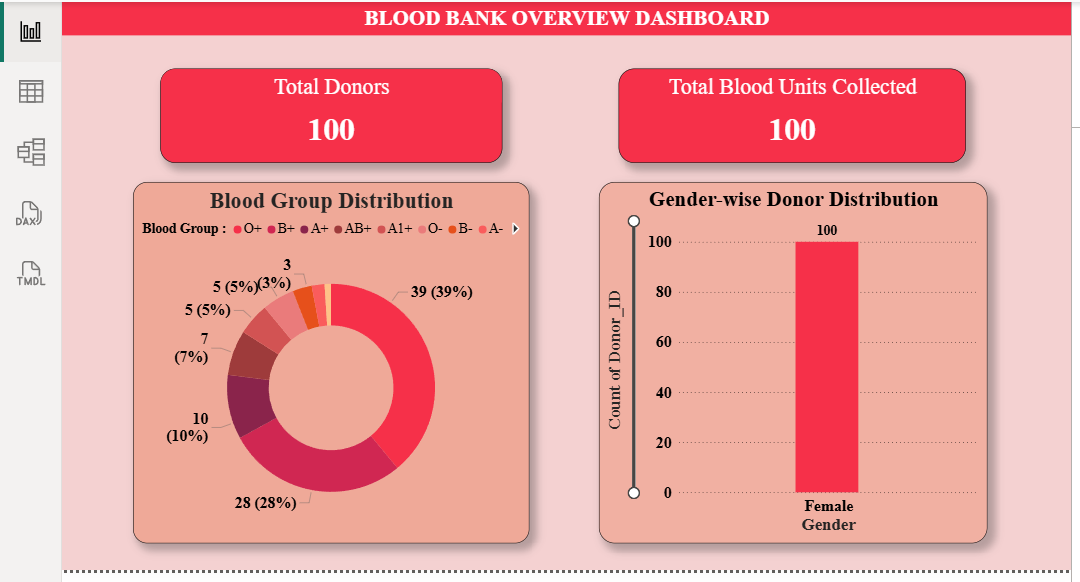

What the dashboard file says about the page in this screenshot:
{"tool":"powerbi","page":{"name":"Page 1","canvas":[1280,720],"ordinal":0},"visuals":[{"type":"card","title":"Total Donors","fields":{"Values":["Count(Sheet1.Donor_ID)"]},"box":[124.9,85.1,433.6,119.4],"z":0},{"type":"card","title":"Total Blood Units Collected","fields":{"Values":["CountNonNull(Sheet1.Units Donated)"]},"box":[705.3,85.1,440.5,119.4],"z":1000},{"type":"donutChart","title":"Blood Group Distribution","fields":{"Category":["Sheet1.Blood Group :"],"Y":["CountNonNull(Sheet1.Donor_ID)"]},"box":[90.6,227.8,502.2,458.3],"z":2000},{"type":"clusteredColumnChart","title":" Gender-wise Donor Distribution","fields":{"Category":["Sheet1.Gender"],"Y":["CountNonNull(Sheet1.Donor_ID)"]},"box":[680.6,227.8,492.6,458.3],"z":3000},{"type":"textbox","box":[0,0,1280.3,42.5],"z":4000}]}

Visuals, with their boxes on the page's 1280x720 design canvas (x1, y1, x2, y2). These are canvas units, not pixel positions in the 1080x582 screenshot, which may show the page scaled, cropped or inside an application window:
"Total Donors" card: 125,85,558,204
"Total Blood Units Collected" card: 705,85,1146,204
"Blood Group Distribution" donutChart: 91,228,593,686
" Gender-wise Donor Distribution" clusteredColumnChart: 681,228,1173,686
textbox: 0,0,1280,42
